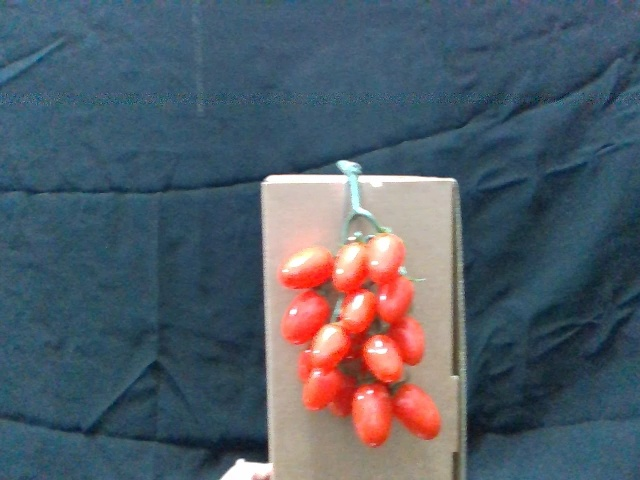tomato: (391, 383, 442, 440), (281, 292, 332, 344), (353, 384, 392, 450), (362, 333, 407, 389), (281, 246, 335, 290), (310, 322, 353, 371), (332, 242, 370, 295), (304, 367, 344, 417), (378, 273, 416, 324), (387, 315, 427, 363), (368, 232, 407, 278), (341, 292, 380, 334)
